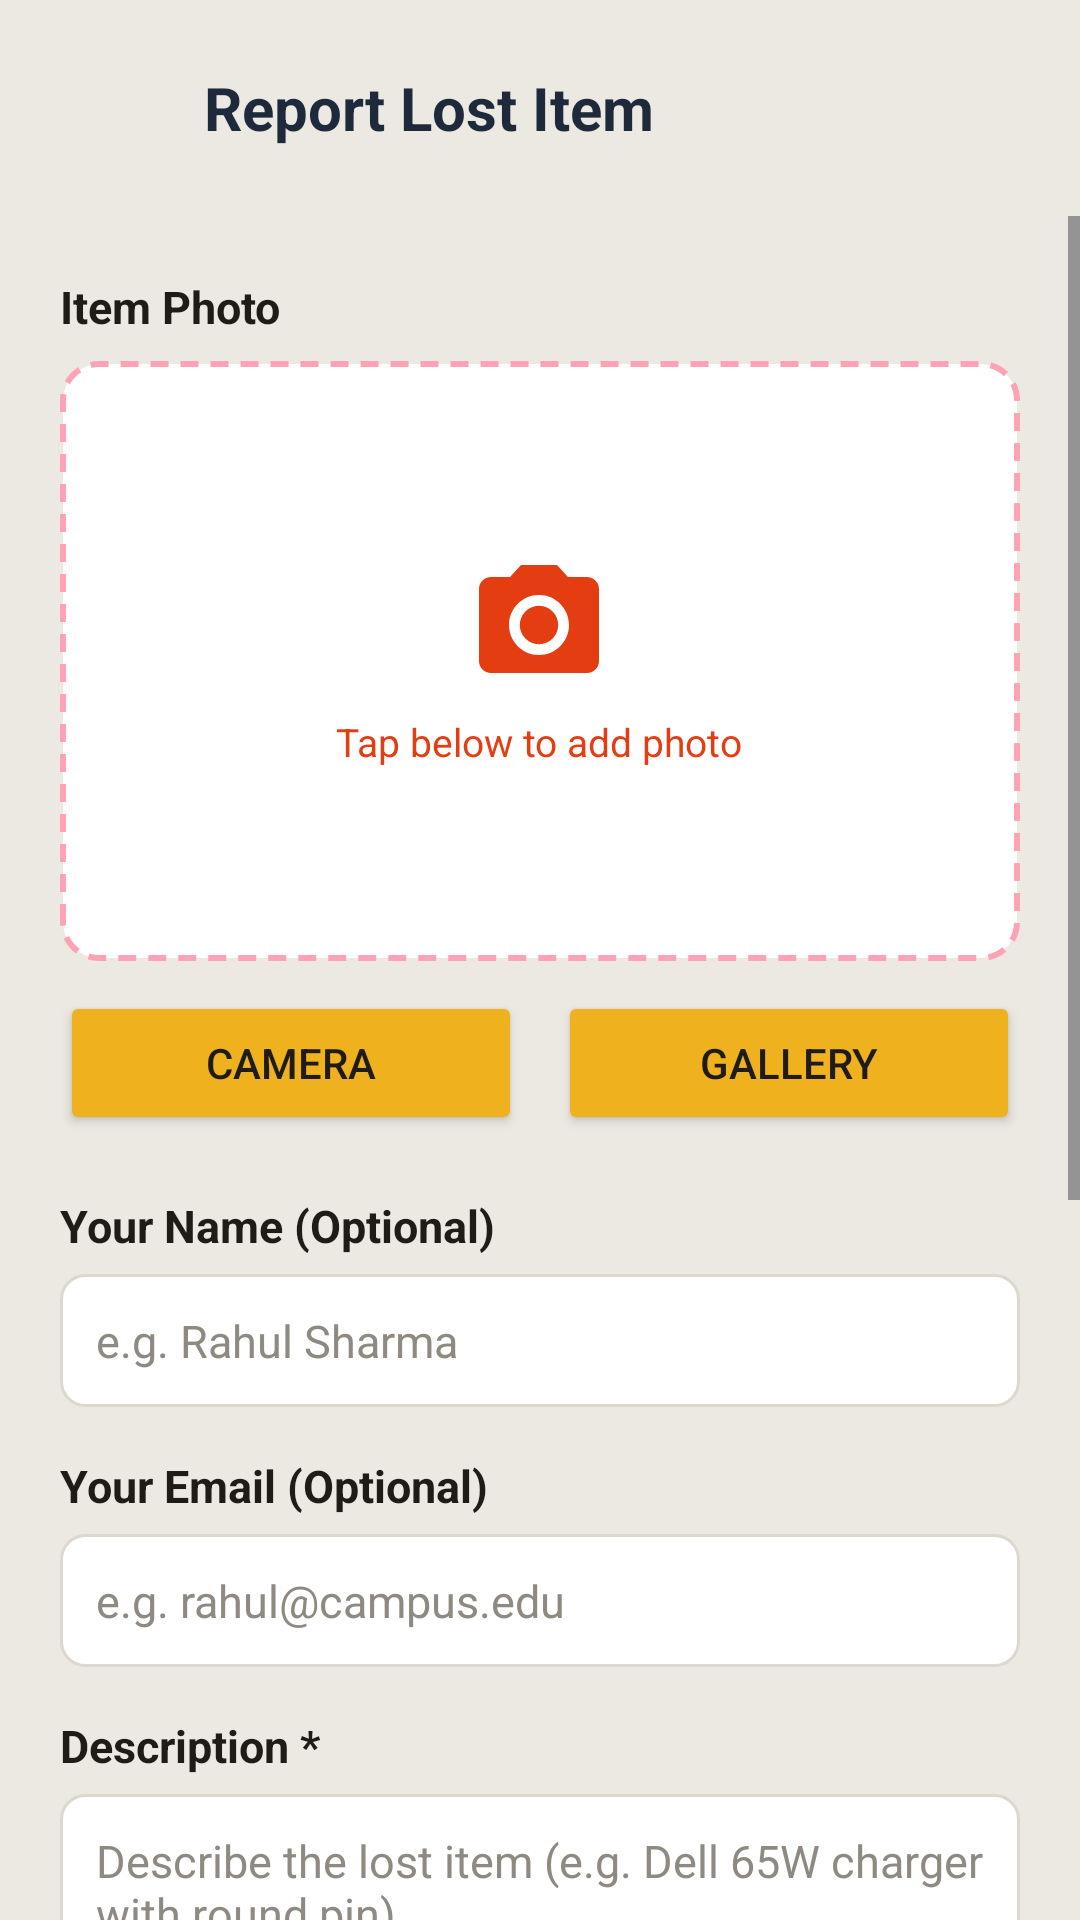

Screen size 1080×1920. Icon name, then its box in pixels as (x1, y1, x2, y2):
camera: (479, 565, 599, 673)
